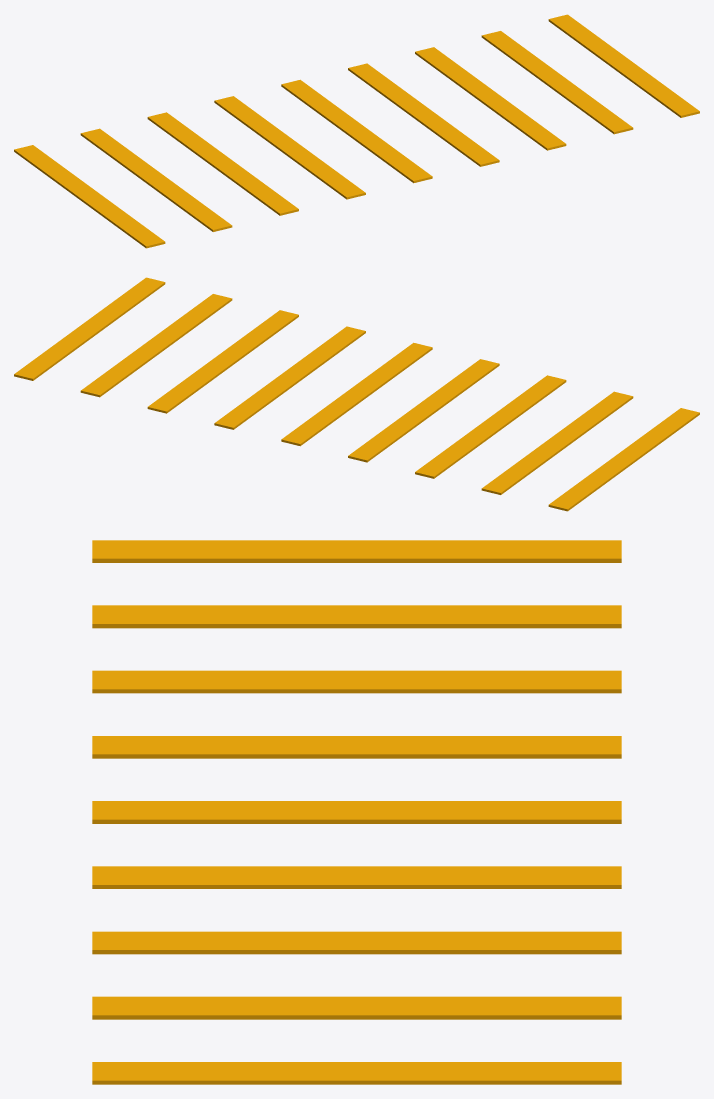
Rendered from zebra.fbx.
3 renders of one model, top to bottom at view 1: azimuth 30°, elevation 25°; view 2: azimuth 150°, elevation 25°; view 3: azimuth 270°, elevation 25°, orthographic. The views are drawn at different scales.
Visible parts, largest first — view 1: zebra-crossing; view 2: zebra-crossing; view 3: zebra-crossing.
Part boxes in pixels (x1,y1,x2,y2): zebra-crossing: (14, 14, 699, 248); zebra-crossing: (14, 277, 699, 511); zebra-crossing: (92, 540, 621, 1084).
Bounding box in the file's own units: 3480 × 12.69 × 1440.
